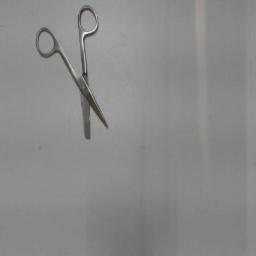Dressing Scissors: (30, 2, 112, 142)
